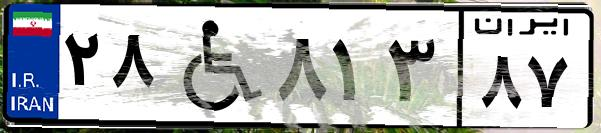1: (330, 28, 385, 110)
2: (57, 26, 110, 100)
3: (385, 28, 445, 110)
7: (525, 38, 570, 115)
8: (270, 28, 330, 110), (475, 38, 525, 113), (110, 28, 158, 98)
ژ (معلولین و جانبازان): (158, 12, 270, 120)
